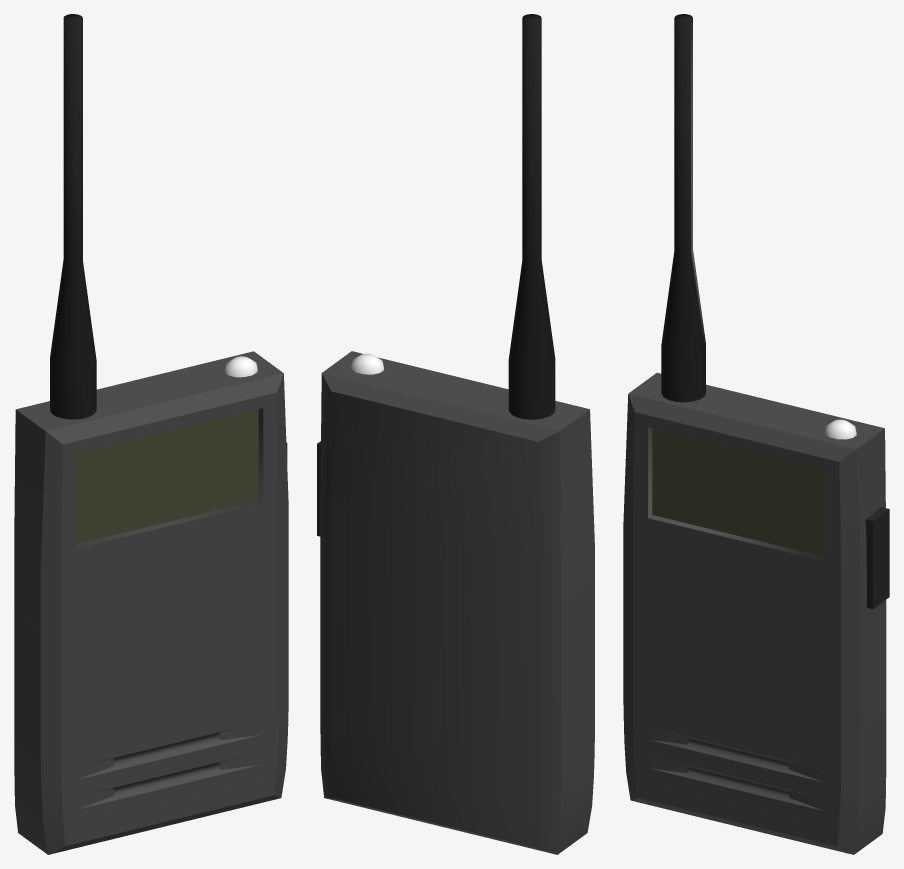
The model's file is Transceiver.fbx.
3 views of the same model, side by side, from view 1: azimuth 30°, elevation 25°; view 2: azimuth 150°, elevation 25°; view 3: azimuth 330°, elevation 25° (orthographic). The views are drawn at different scales.
Parts seen in each view (by area): view 1: Body; view 2: Body; view 3: Body.
Boxes of the visible parts, <box> form: Body: <box>14,14,288,854</box>; Body: <box>317,14,594,854</box>; Body: <box>623,14,889,854</box>.
Size of the model in its own units: 0.0502 by 0.1544 by 0.0142.
